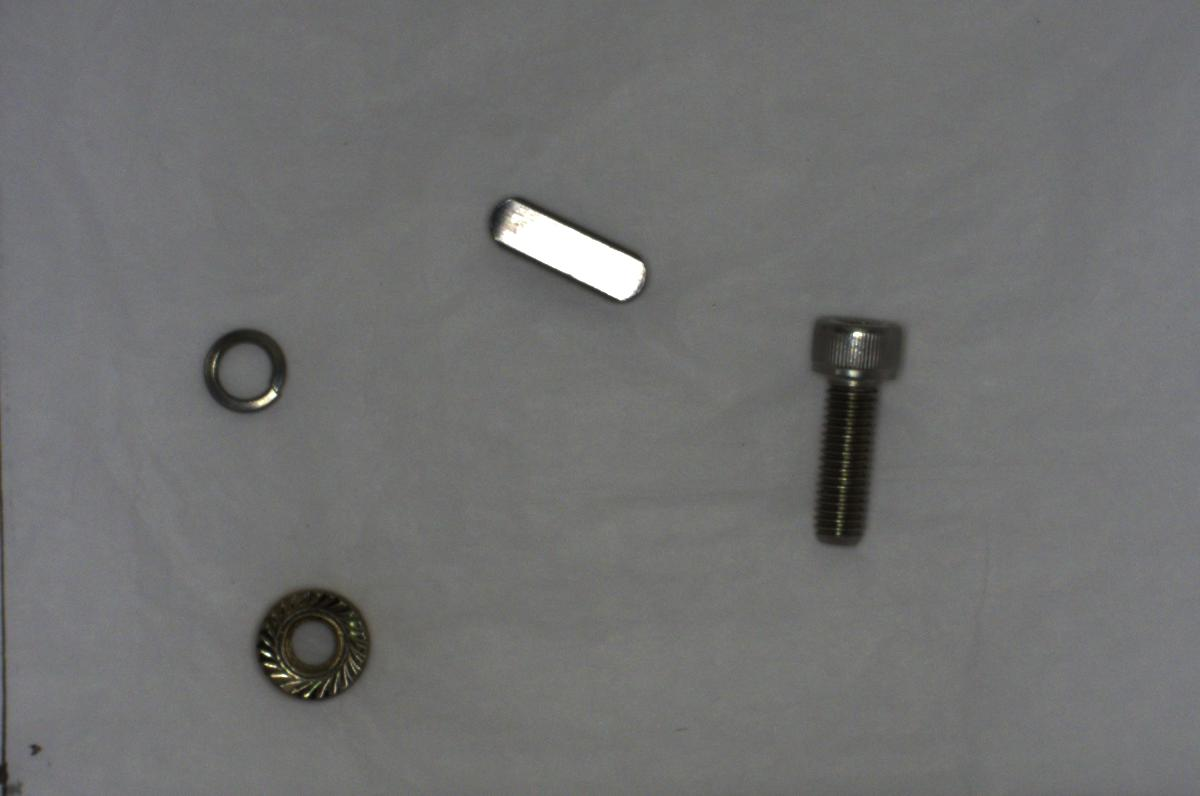Flange nut: (245, 580, 381, 718)
Hexagon screw: (788, 303, 912, 550)
Keybar: (479, 194, 655, 316)
Spring washer: (194, 322, 295, 418)
